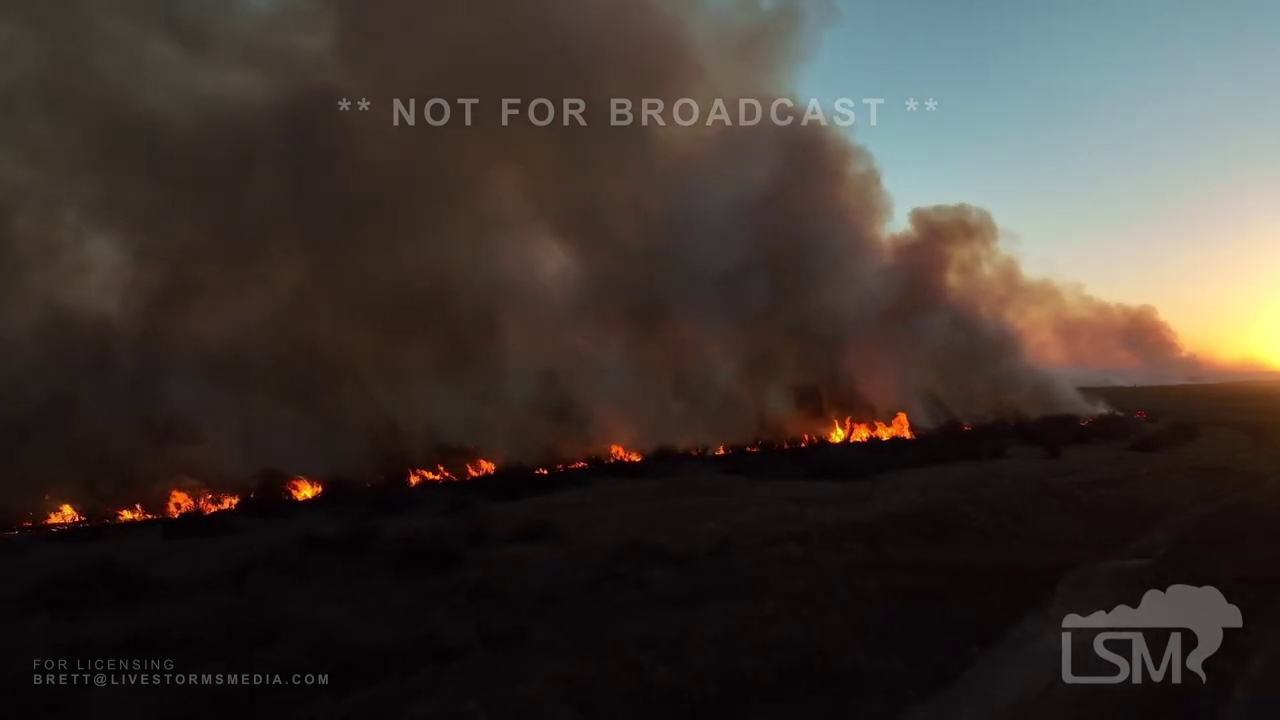forest_fire: (780, 412, 915, 448), (109, 488, 241, 522), (405, 458, 497, 487), (39, 503, 89, 525), (283, 476, 322, 501), (533, 460, 591, 474), (603, 444, 644, 463), (711, 445, 734, 454)
